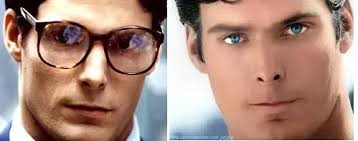Glasses: (15, 8, 162, 75)
No-Glasses: (210, 22, 329, 51)
